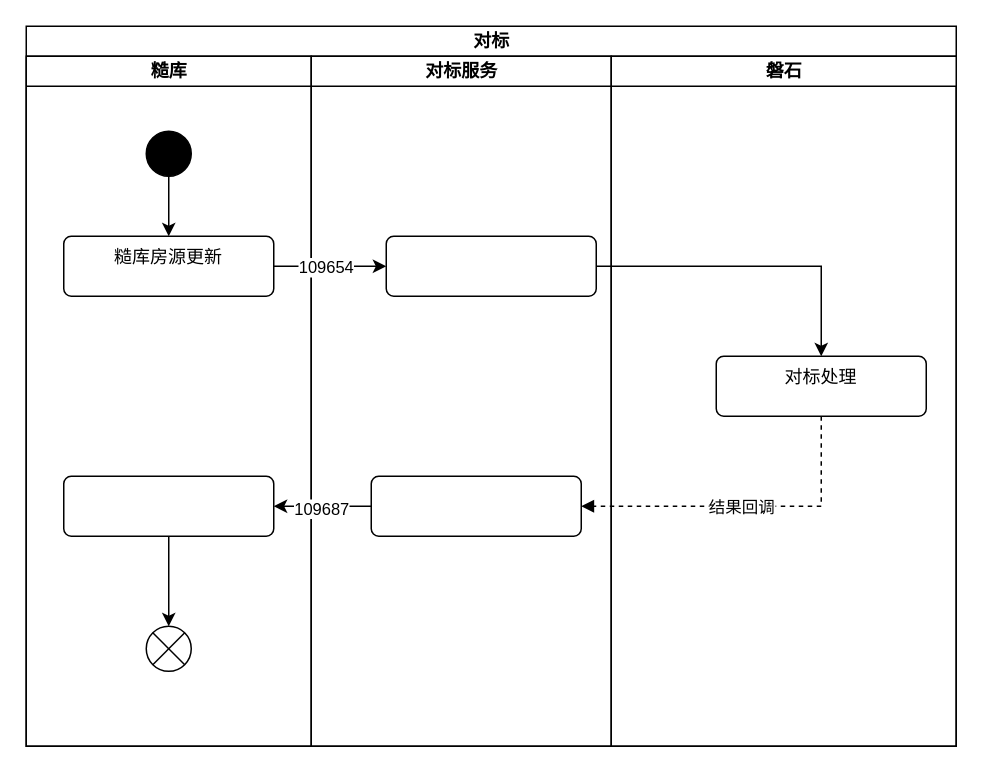
Image size: 983x773. Some labels were removed from this diagram. The centre of each missing label's shape, as x and y in pixels:
"发起对标" belongs at point (490, 265).
"对标结果同步糙库" belongs at point (168, 505).
"对标结果回传" belongs at point (475, 505).
